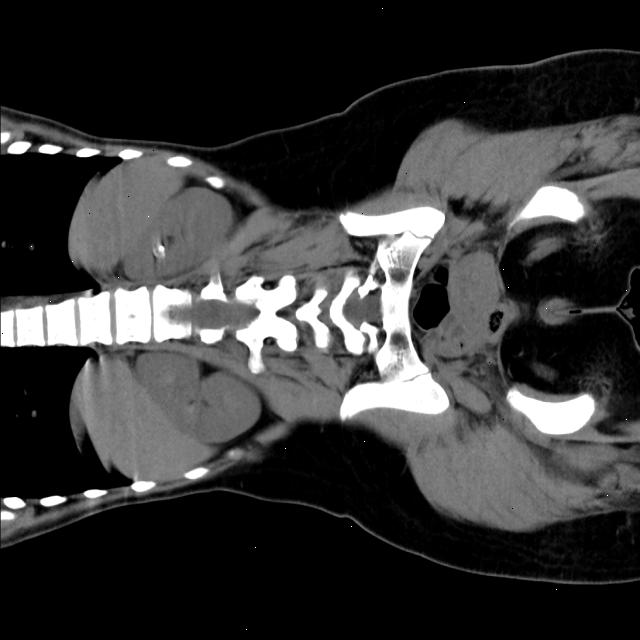kidneystone: (152, 241, 165, 258)
